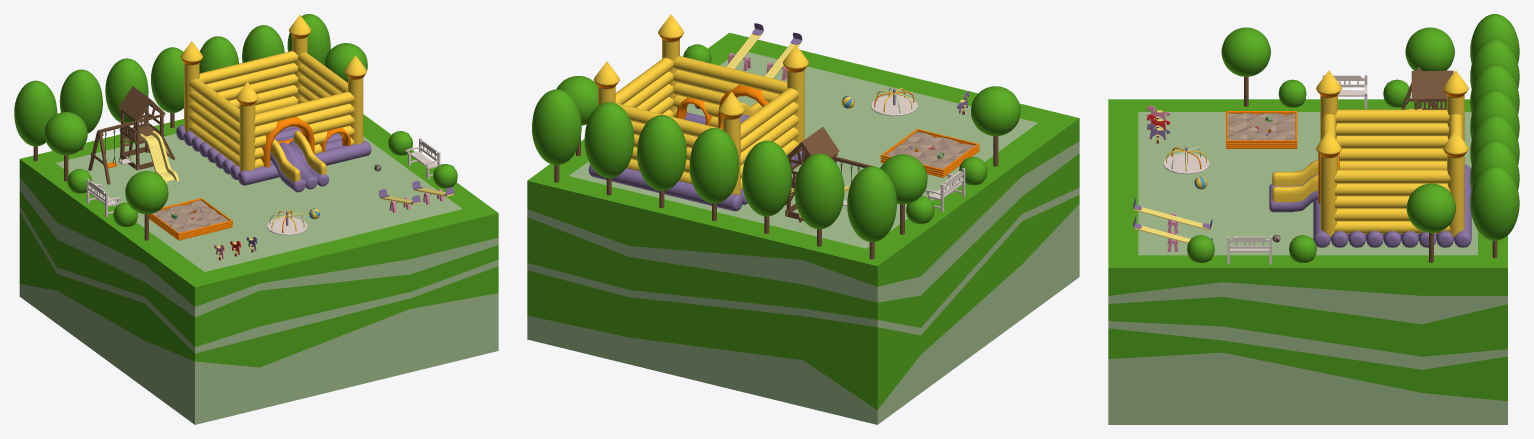
Rendered from Island_9.fbx.
3 views of the same model, side by side, from view 1: azimuth 30°, elevation 25°; view 2: azimuth 150°, elevation 25°; view 3: azimuth 270°, elevation 25° (orthographic). The views are drawn at different scales.
Parts seen in each view (by area): view 1: Island_9_Base, Island_9_Air_castle, Island_9, Island_9_Children_complex, Island_9_Children_sandbox; view 2: Island_9_Base, Island_9, Island_9_Air_castle, Island_9_Children_sandbox, Island_9_Children_complex; view 3: Island_9_Base, Island_9, Island_9_Air_castle, Island_9_Children_sandbox, Island_9_Children_complex.
Boxes of the visible parts, x1,y1,x2,y2 form: Island_9_Base: (19,114,498,424); Island_9_Air_castle: (176,15,371,192); Island_9: (14,14,457,260); Island_9_Children_complex: (88,86,179,184); Island_9_Children_sandbox: (149,198,232,240); Island_9_Base: (527,32,1079,424); Island_9: (532,23,1020,259); Island_9_Air_castle: (588,14,809,211); Island_9_Children_sandbox: (880,129,979,177); Island_9_Children_complex: (785,127,874,222); Island_9_Base: (1108,99,1507,424); Island_9: (1133,14,1519,264); Island_9_Air_castle: (1269,70,1471,247); Island_9_Children_sandbox: (1226,111,1297,148); Island_9_Children_complex: (1401,67,1453,109).
Size of the model in its own units: 2108 by 2059 by 1485.
